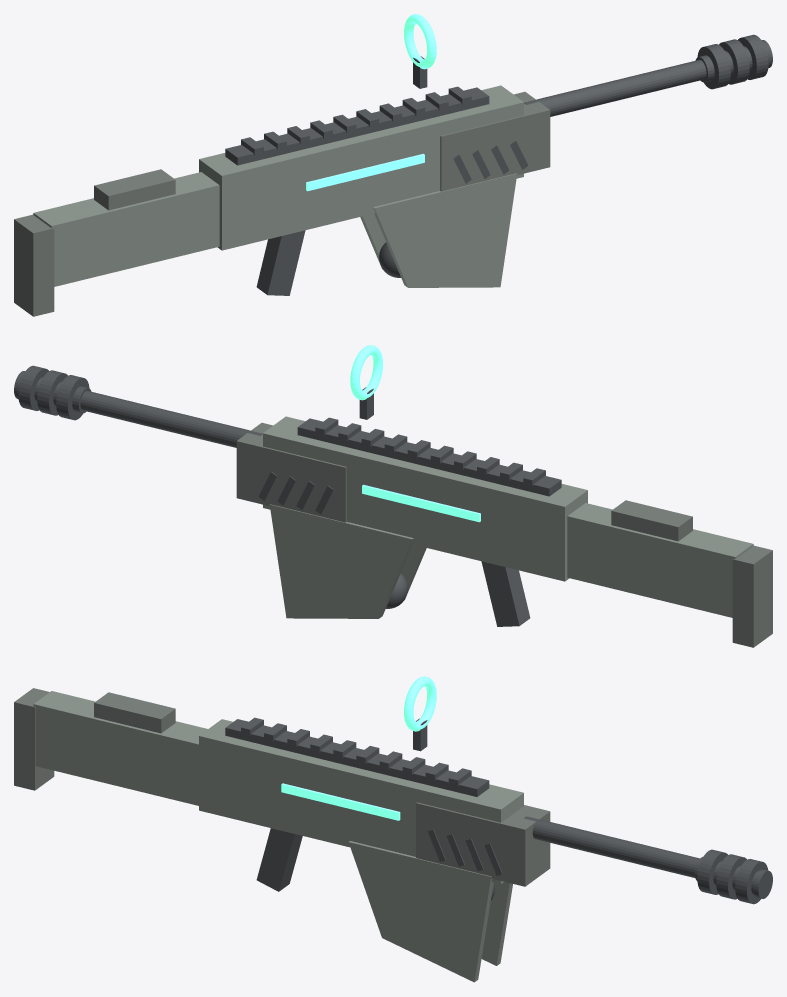
File: rifle.glb
3 views of the same model, one above another, from view 1: azimuth 30°, elevation 25°; view 2: azimuth 150°, elevation 25°; view 3: azimuth 330°, elevation 25° (orthographic).
Visible parts, largest first — view 1: receiver, stock, mag_plate_1, front_block, butt_pad, rail, barrel, cheek_riser, grip, stripe_1, sight_ring, brake_disc0 (+3 smaller); view 2: receiver, stock, mag_plate_-1, front_block, butt_pad, rail, barrel, cheek_riser, grip, stripe_-1, sight_ring, brake_disc0 (+3 smaller); view 3: receiver, mag_plate_1, stock, front_block, barrel, rail, butt_pad, cheek_riser, grip, mag_plate_-1, stripe_1, sight_ring (+3 smaller).
Part boxes in pixels (x1,y1,x2,y2): receiver: [199, 85, 523, 250]; stock: [33, 172, 219, 286]; mag_plate_1: [373, 173, 517, 287]; front_block: [440, 91, 550, 191]; butt_pad: [14, 214, 54, 316]; rail: [225, 87, 489, 165]; barrel: [524, 60, 706, 116]; cheek_riser: [94, 169, 175, 210]; grip: [256, 230, 305, 295]; stripe_1: [306, 153, 424, 191]; sight_ring: [404, 14, 436, 69]; brake_disc0: [697, 44, 730, 89]; receiver: [263, 416, 587, 581]; stock: [567, 503, 753, 617]; mag_plate_-1: [269, 504, 413, 618]; front_block: [236, 422, 346, 522]; butt_pad: [732, 545, 772, 647]; rail: [297, 418, 561, 496]; barrel: [80, 391, 262, 447]; cheek_riser: [611, 500, 692, 541]; grip: [481, 561, 530, 626]; stripe_-1: [362, 484, 480, 522]; sight_ring: [350, 345, 382, 400]; brake_disc0: [56, 375, 89, 420]; receiver: [199, 719, 523, 884]; mag_plate_1: [348, 841, 493, 982]; stock: [33, 691, 207, 805]; front_block: [416, 802, 550, 886]; barrel: [524, 816, 699, 878]; rail: [225, 719, 489, 796]; butt_pad: [14, 688, 54, 790]; cheek_riser: [94, 692, 175, 733]; grip: [256, 828, 302, 891]; mag_plate_-1: [481, 882, 512, 965]; stripe_1: [281, 783, 400, 820]; sight_ring: [404, 676, 436, 731].
Bounding box in the file's own units: 0.9724 × 0.3481 × 0.0638.
